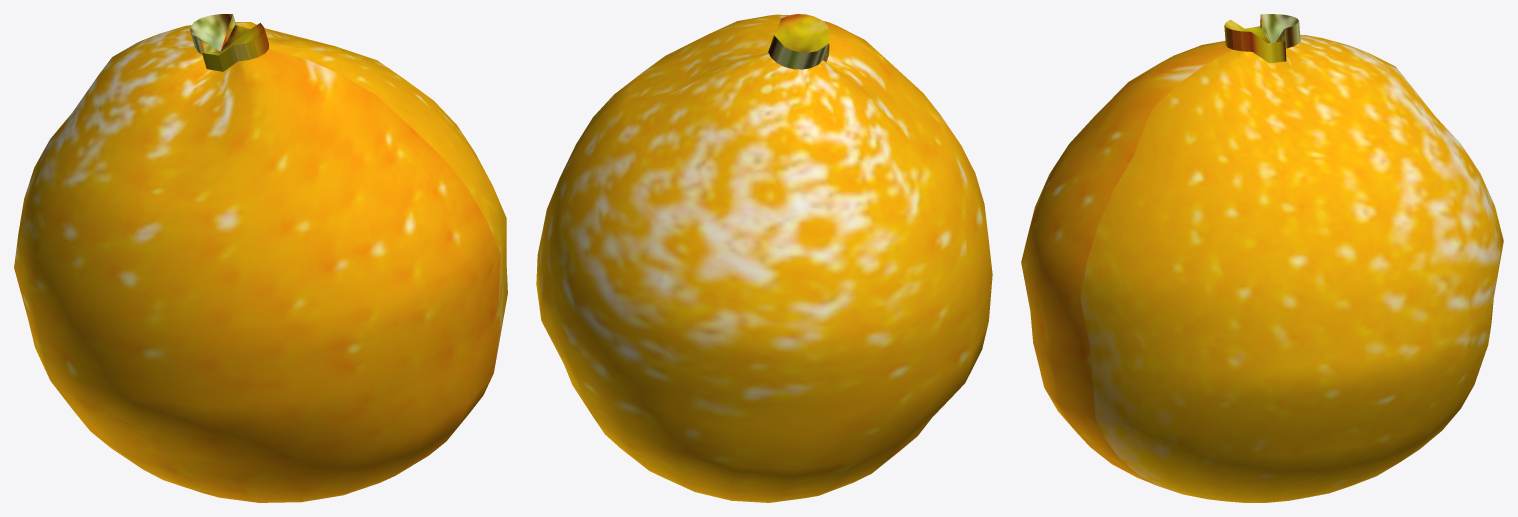
File: Naranja.fbx
3 renders of one model, left to right at view 1: azimuth 30°, elevation 25°; view 2: azimuth 150°, elevation 25°; view 3: azimuth 270°, elevation 25°, orthographic. The views are drawn at different scales.
Parts seen in each view (by area): view 1: polySurface3; view 2: polySurface3; view 3: polySurface3.
Boxes of the visible parts, <box> form: polySurface3: <box>14,14,507,502</box>; polySurface3: <box>536,14,992,502</box>; polySurface3: <box>1021,14,1503,502</box>.
Size of the model in its own units: 0.2403 by 0.2601 by 0.2556.
